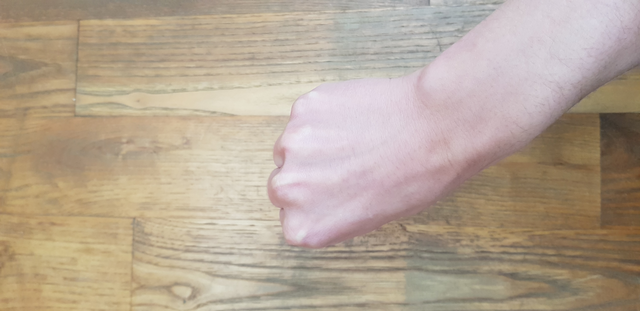Rock: (229, 73, 481, 259)
